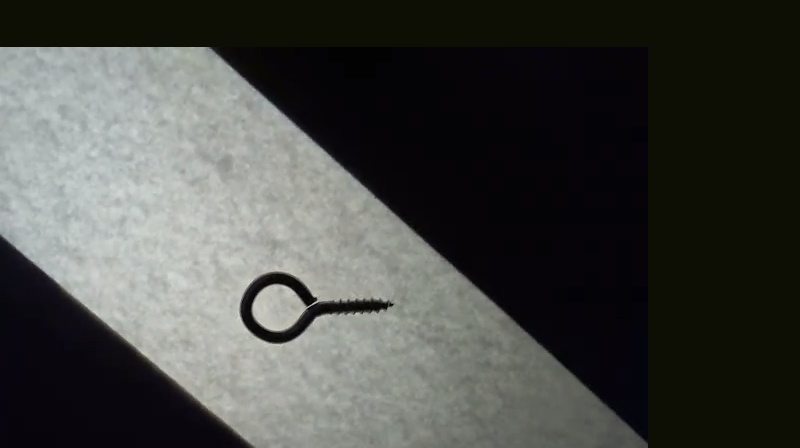O001: (239, 269, 396, 344)
